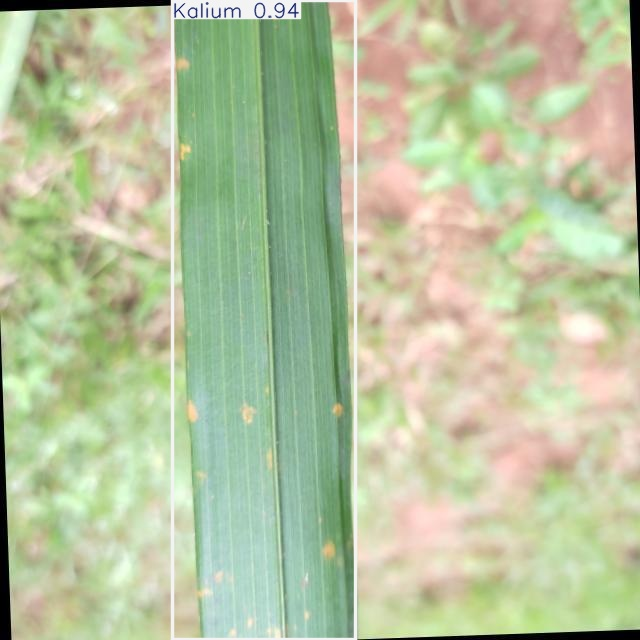Kalium: (173, 0, 356, 640)
